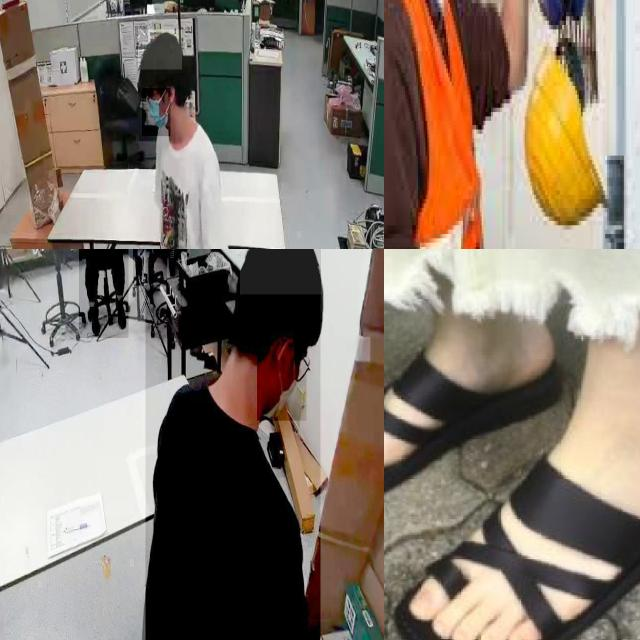Ear-protection: (539, 0, 590, 29)
Sandals: (393, 351, 640, 640), (384, 292, 547, 522)
face_mask: (257, 330, 307, 421), (142, 88, 170, 136)
head_helmet: (519, 47, 609, 234)
head_nohelmet: (240, 249, 323, 295), (138, 30, 182, 70)
person: (145, 249, 320, 640), (384, 0, 539, 249), (125, 30, 232, 249), (79, 249, 129, 339), (133, 249, 167, 286)
shoes: (111, 292, 128, 334), (88, 303, 102, 340)
